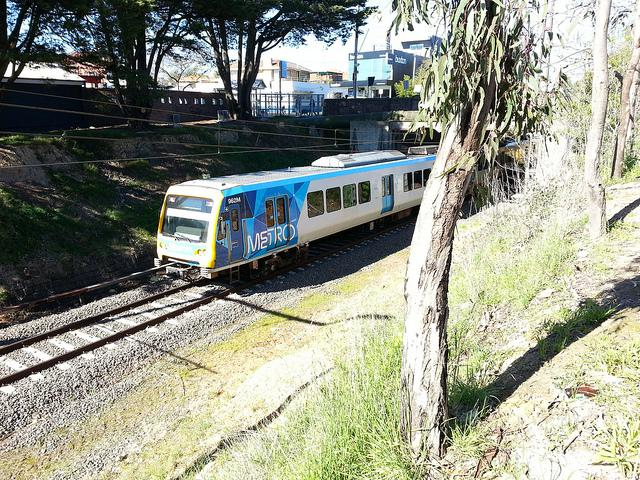Train: (146, 137, 442, 283)
